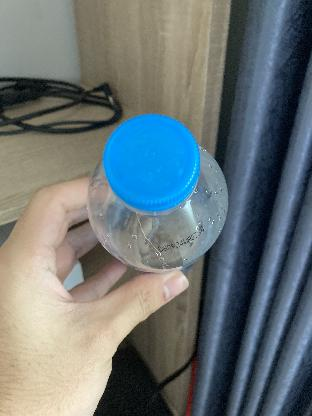Plastic Bottle: (82, 109, 234, 277)
